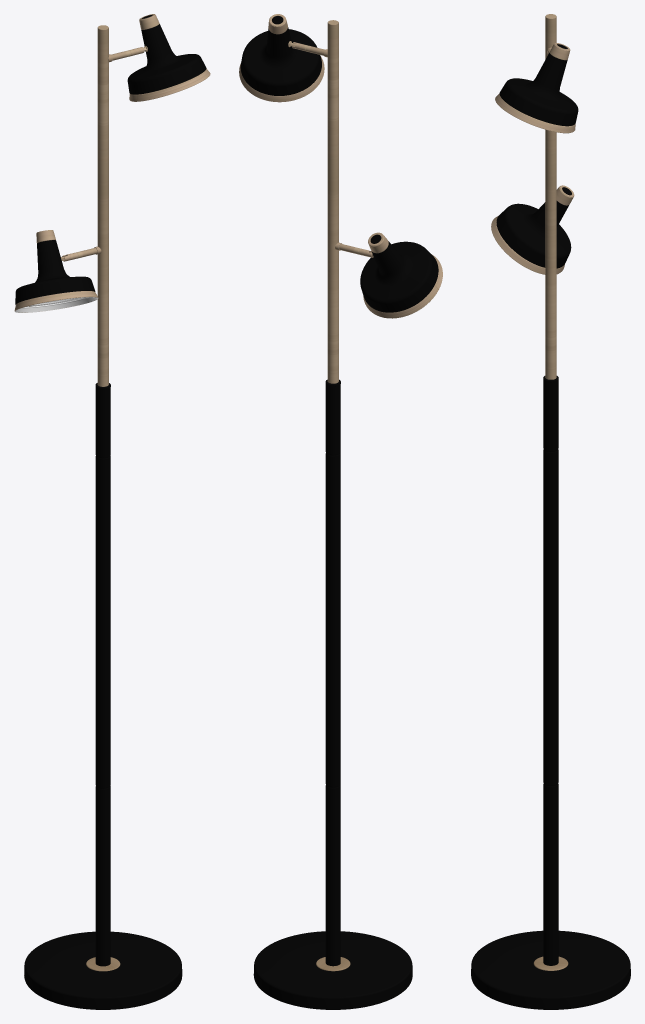
File: lamp_B07B4SC9N7.glb
3 views of the same model, side by side, from view 1: azimuth 30°, elevation 25°; view 2: azimuth 150°, elevation 25°; view 3: azimuth 270°, elevation 25° (orthographic).
Parts seen in each view (by area): view 1: RootNode; view 2: RootNode; view 3: RootNode.
Part boxes in pixels (bbox=[...]): RootNode: bbox=[14, 14, 210, 1009]; RootNode: bbox=[239, 14, 442, 1009]; RootNode: bbox=[471, 14, 630, 1009].
Size of the model in its own units: 0.3506 by 1.67 by 0.2526.
1 material, 1 textured.
